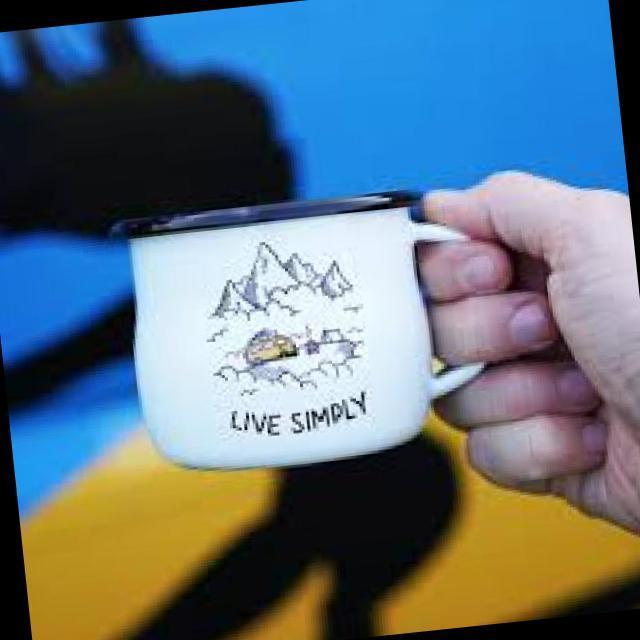taza: (104, 178, 494, 484)
